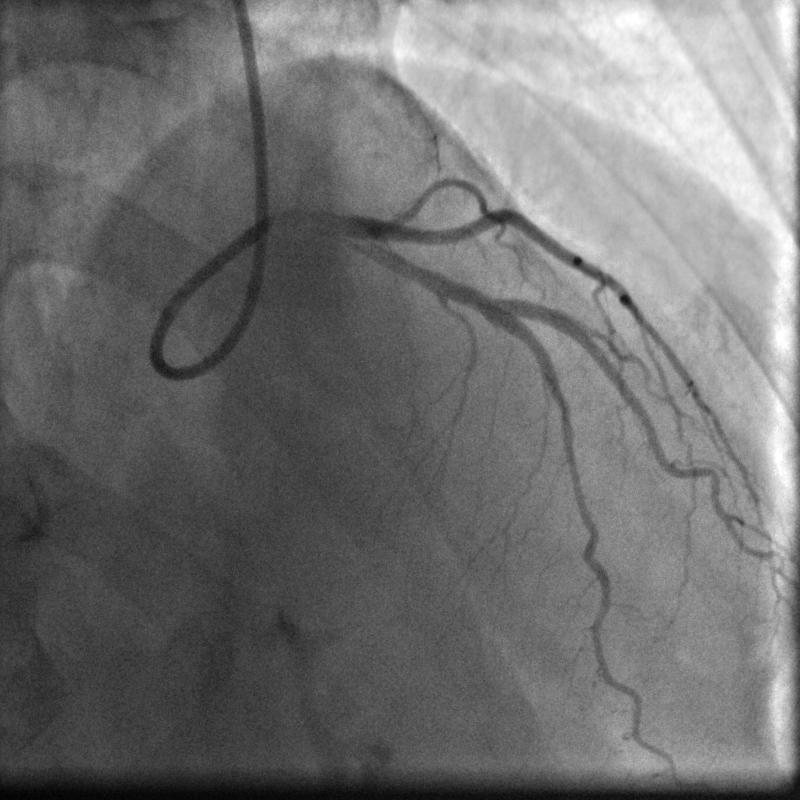Stenosis: (463, 281, 489, 324)
